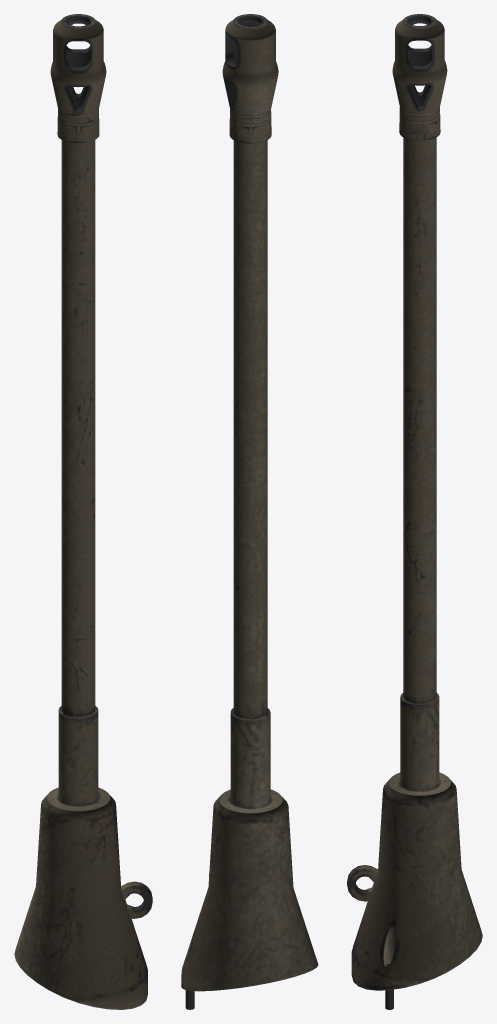
The model's file is Gun_04.glb.
3 views of the same model, side by side, from view 1: azimuth 90°, elevation 25°; view 2: azimuth 210°, elevation 25°; view 3: azimuth 270°, elevation 25° (orthographic). The views are drawn at different scales.
Visible parts, largest first — view 1: set_0_group_0; view 2: set_0_group_0; view 3: set_0_group_0.
Part boxes in pixels (bbox=[...]): set_0_group_0: bbox=[14, 14, 152, 1009]; set_0_group_0: bbox=[181, 14, 318, 1009]; set_0_group_0: bbox=[347, 14, 482, 1009].
Size of the model in its own units: 0.6448 by 5.04 by 0.6419.
Materials: 1 (1 with a texture image).
